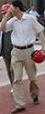boots: (10, 105, 25, 112), (32, 95, 38, 104)
hard-hat: (0, 5, 9, 18)
